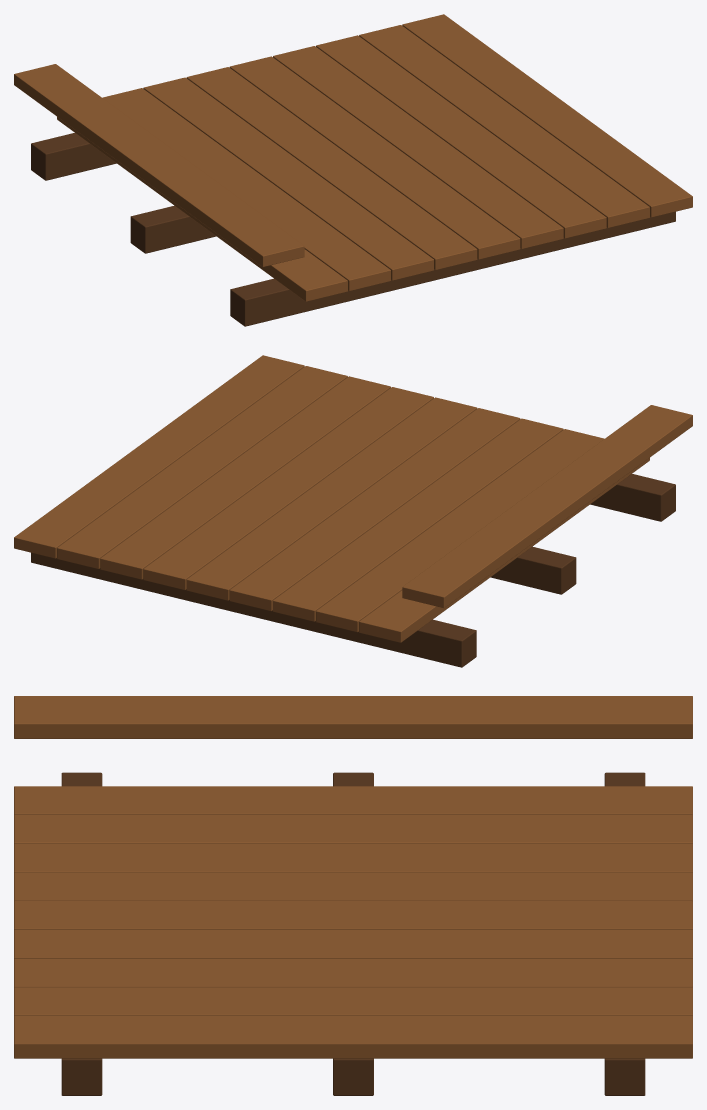
The model's file is source-edit.glb.
3 renders of one model, top to bottom at view 1: azimuth 30°, elevation 25°; view 2: azimuth 150°, elevation 25°; view 3: azimuth 270°, elevation 25°, orthographic. The views are drawn at different scales.
Visible parts, largest first — view 1: FLOOR_Plank_0, FLOOR_Plank_4, FLOOR_Plank_5, FLOOR_Plank_7, FLOOR_Plank_6, FLOOR_Plank_8, FLOOR_Plank_3, FLOOR_Plank_9, FLOOR_Plank_2, FLOOR_Joist, FLOOR_Plank_1, FLOOR_Joist.001 (+1 smaller); view 2: FLOOR_Plank_0, FLOOR_Plank_4, FLOOR_Plank_5, FLOOR_Plank_7, FLOOR_Plank_6, FLOOR_Plank_8, FLOOR_Plank_3, FLOOR_Plank_9, FLOOR_Plank_2, FLOOR_Joist.002, FLOOR_Plank_1, FLOOR_Joist.001 (+1 smaller); view 3: FLOOR_Plank_0, FLOOR_Plank_9, FLOOR_Plank_3, FLOOR_Plank_7, FLOOR_Plank_6, FLOOR_Plank_4, FLOOR_Plank_1, FLOOR_Plank_2, FLOOR_Plank_5, FLOOR_Plank_8, FLOOR_Joist, FLOOR_Joist.002 (+1 smaller).
Boxes of the visible parts, x1,y1,x2,y2 form: FLOOR_Plank_0: (14,64,304,266); FLOOR_Plank_4: (186,67,477,270); FLOOR_Plank_5: (229,56,520,259); FLOOR_Plank_7: (316,35,606,238); FLOOR_Plank_6: (273,46,563,248); FLOOR_Plank_8: (359,25,649,227); FLOOR_Plank_3: (143,77,433,280); FLOOR_Plank_9: (402,14,692,217); FLOOR_Plank_2: (102,88,390,291); FLOOR_Joist: (230,211,675,326); FLOOR_Plank_1: (57,117,347,301); FLOOR_Joist.001: (130,205,216,253); FLOOR_Plank_0: (402,405,692,607); FLOOR_Plank_4: (229,408,520,611); FLOOR_Plank_5: (186,397,477,600); FLOOR_Plank_7: (100,376,390,579); FLOOR_Plank_6: (143,387,433,589); FLOOR_Plank_8: (57,366,347,568); FLOOR_Plank_3: (273,418,563,621); FLOOR_Plank_9: (14,355,304,558); FLOOR_Plank_2: (316,429,604,632); FLOOR_Joist.002: (31,552,476,667); FLOOR_Plank_1: (359,458,649,642); FLOOR_Joist.001: (490,546,576,594); FLOOR_Plank_0: (14,696,692,738); FLOOR_Plank_9: (14,1016,692,1058); FLOOR_Plank_3: (14,843,692,872); FLOOR_Plank_7: (14,958,692,987); FLOOR_Plank_6: (14,929,692,958); FLOOR_Plank_4: (14,872,692,901); FLOOR_Plank_1: (14,786,692,814); FLOOR_Plank_2: (14,815,692,843); FLOOR_Plank_5: (14,901,692,929); FLOOR_Plank_8: (14,987,692,1015); FLOOR_Joist: (61,772,102,1095); FLOOR_Joist.002: (604,772,645,1095).
Size of the model in its own units: 2 by 0.37 by 2.
